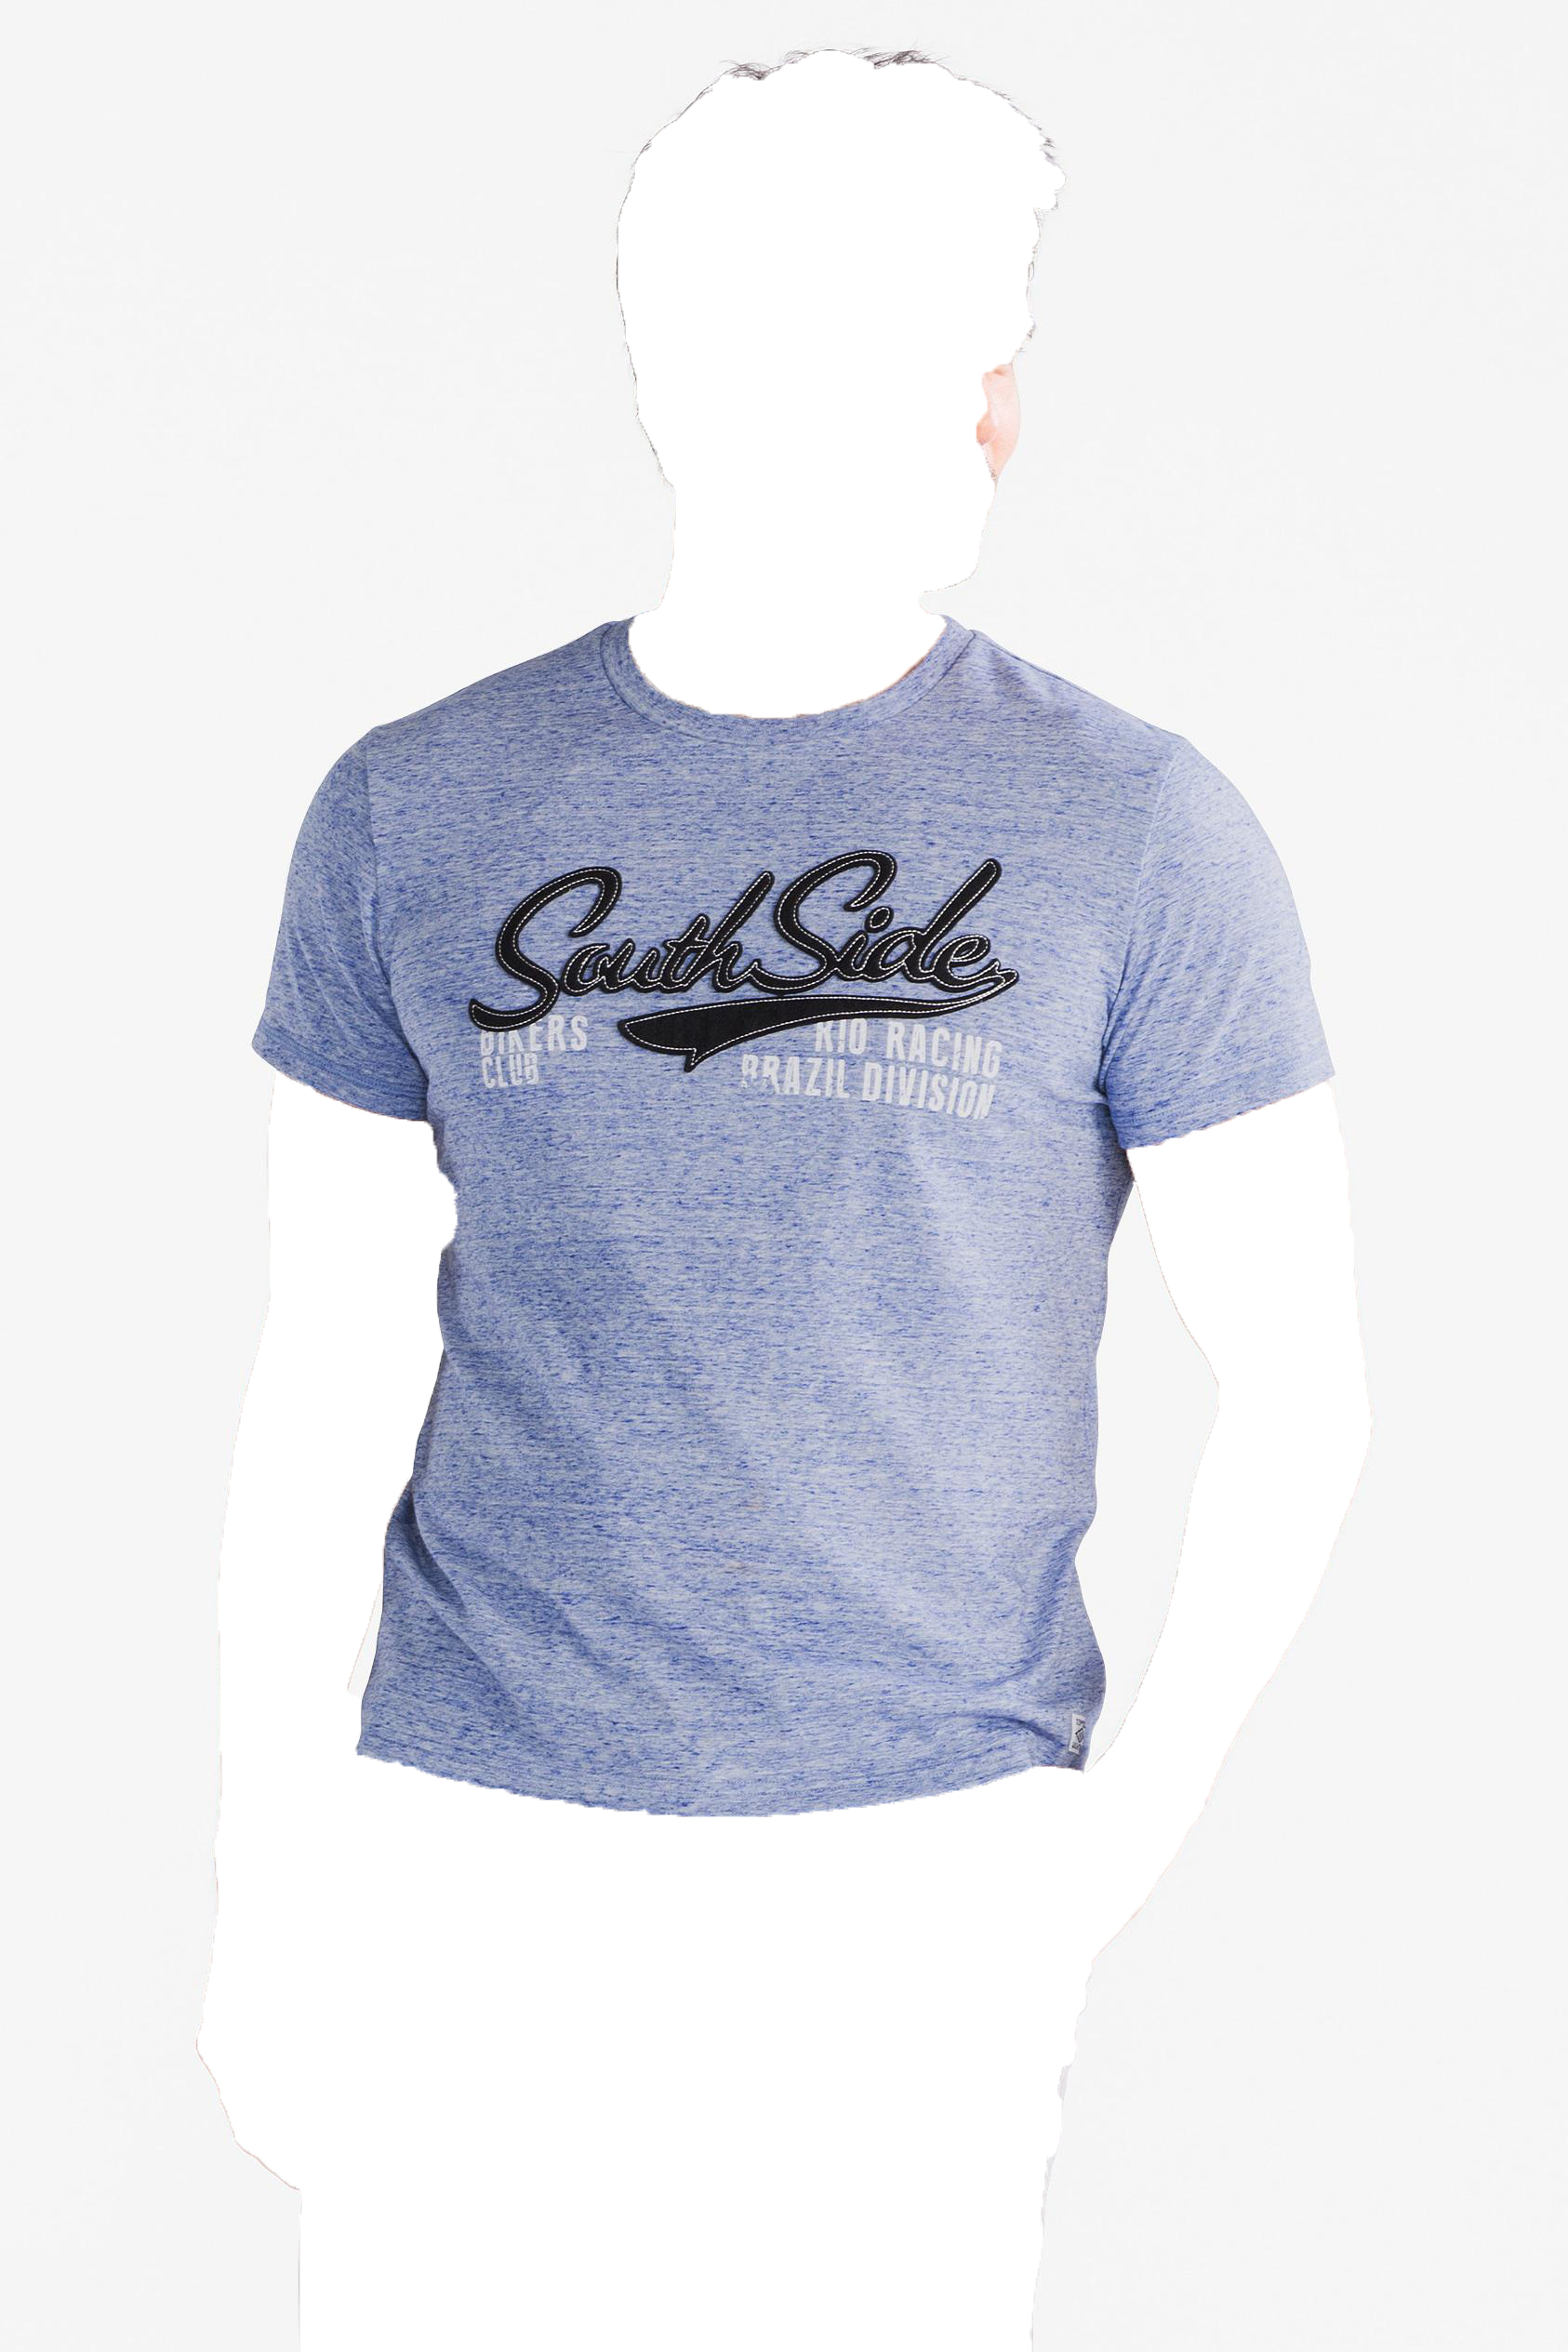teeshirt: (235, 614, 1344, 1830)
